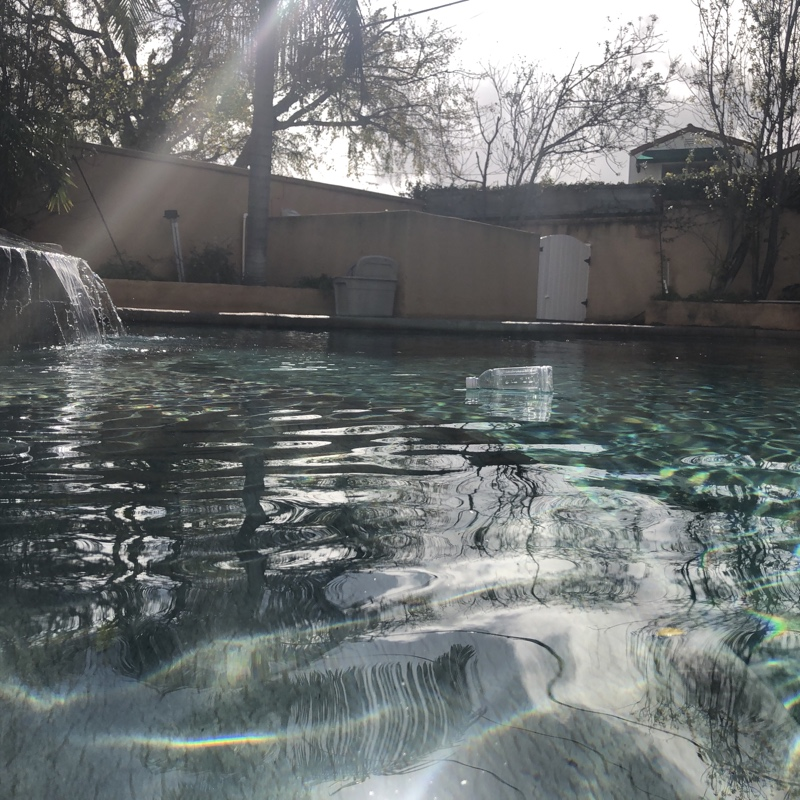Plastic Bottle: (462, 362, 559, 396)
